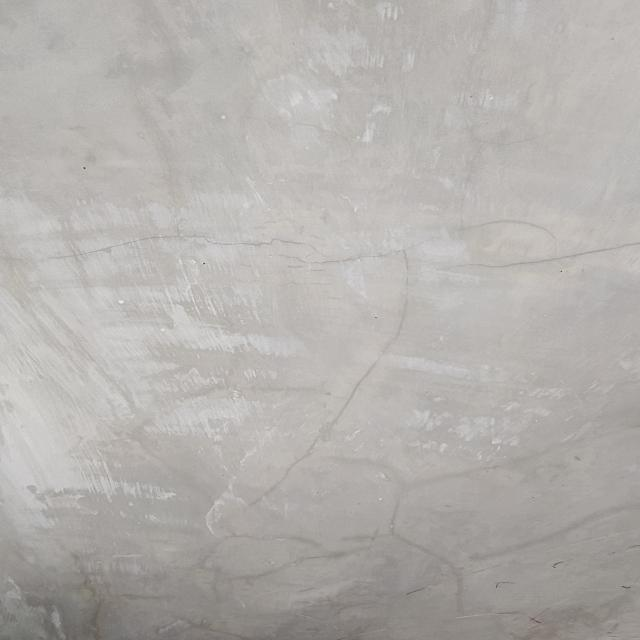Crack: (1, 220, 638, 523)
